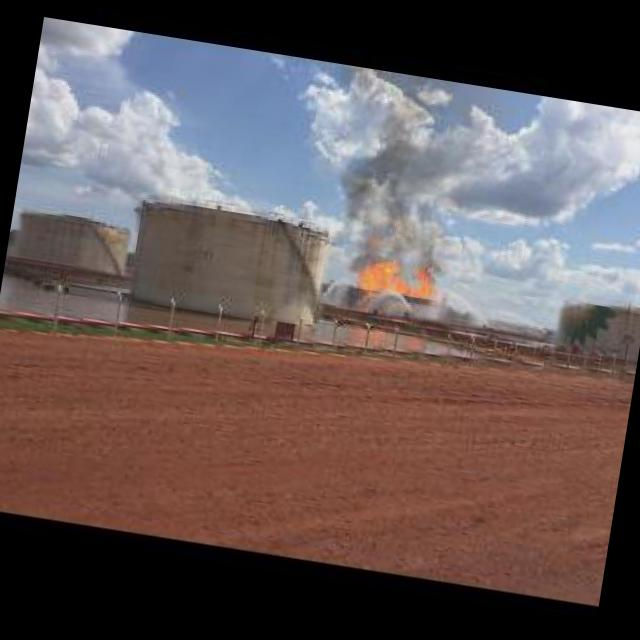fire: (356, 252, 440, 312)
smoke: (329, 133, 458, 275)
